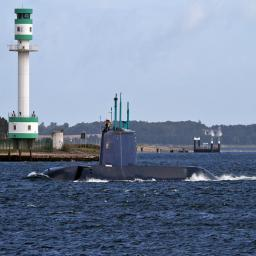submarine: (31, 75, 223, 182)
